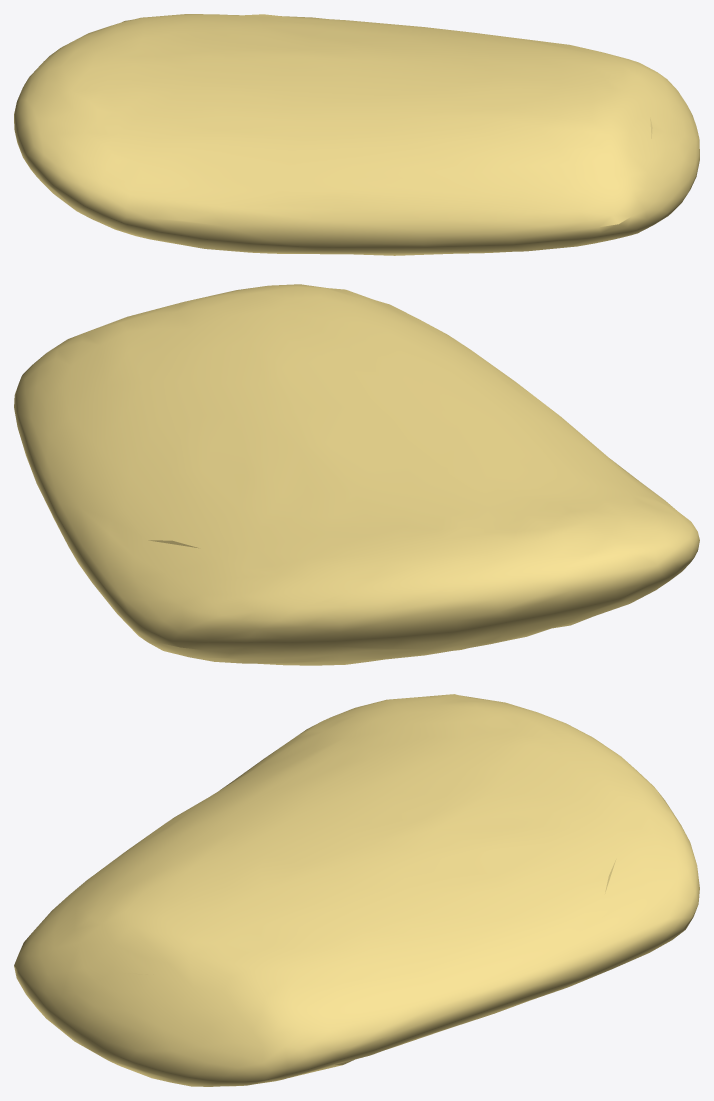
The model's file is fma73331_fj7494m.glb.
3 renders of one model, top to bottom at view 1: azimuth 30°, elevation 25°; view 2: azimuth 150°, elevation 25°; view 3: azimuth 270°, elevation 25°, orthographic. The views are drawn at different scales.
Parts seen in each view (by area): view 1: FMA73331_FJ7494M; view 2: FMA73331_FJ7494M; view 3: FMA73331_FJ7494M.
Boxes of the visible parts, x1,y1,x2,y2 form: FMA73331_FJ7494M: [14, 14, 699, 255]; FMA73331_FJ7494M: [14, 284, 699, 665]; FMA73331_FJ7494M: [14, 694, 699, 1086].
Bounding box in the file's own units: 0.00468 × 0.001 × 0.00423.
